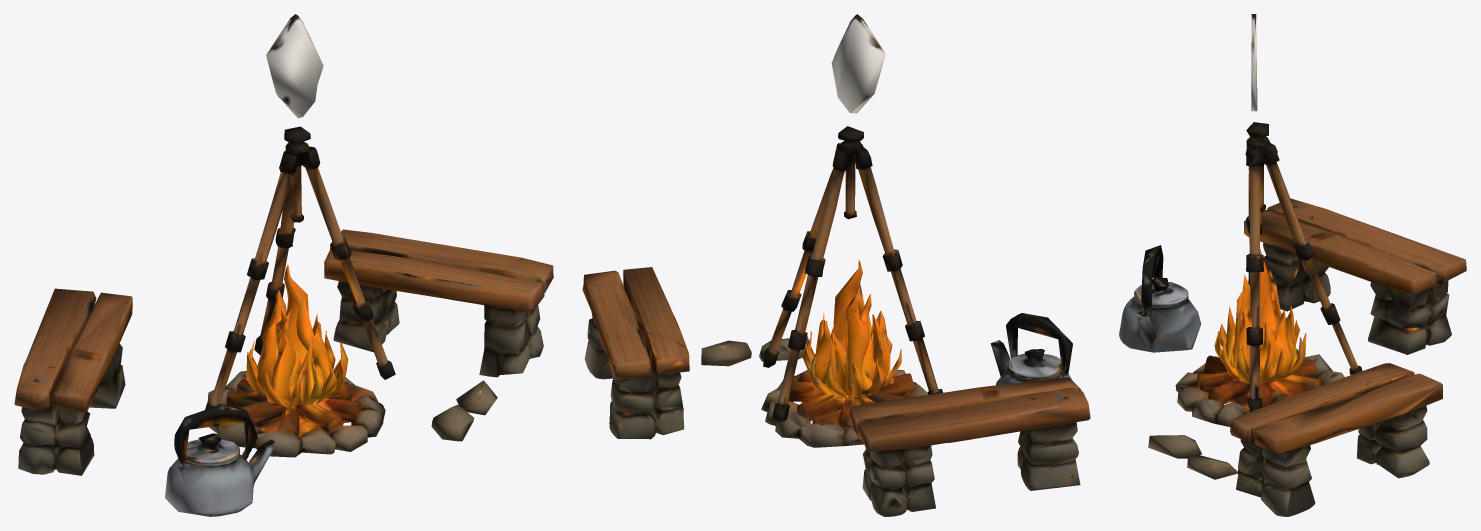
Rendered from campfire_set_2.glb.
3 renders of one model, left to right at view 1: azimuth 30°, elevation 25°; view 2: azimuth 150°, elevation 25°; view 3: azimuth 270°, elevation 25°, orthographic. The views are drawn at different scales.
Visible parts, largest first — view 1: node_0; view 2: node_0; view 3: node_0.
Part boxes in pixels (box(x1,y1,x2,y2)): node_0: box(14, 14, 553, 516); node_0: box(582, 14, 1090, 516); node_0: box(1119, 14, 1466, 516).
Size of the model in its own units: 0.9879 by 0.737 by 0.599.
Materials: 1 (1 with a texture image).
